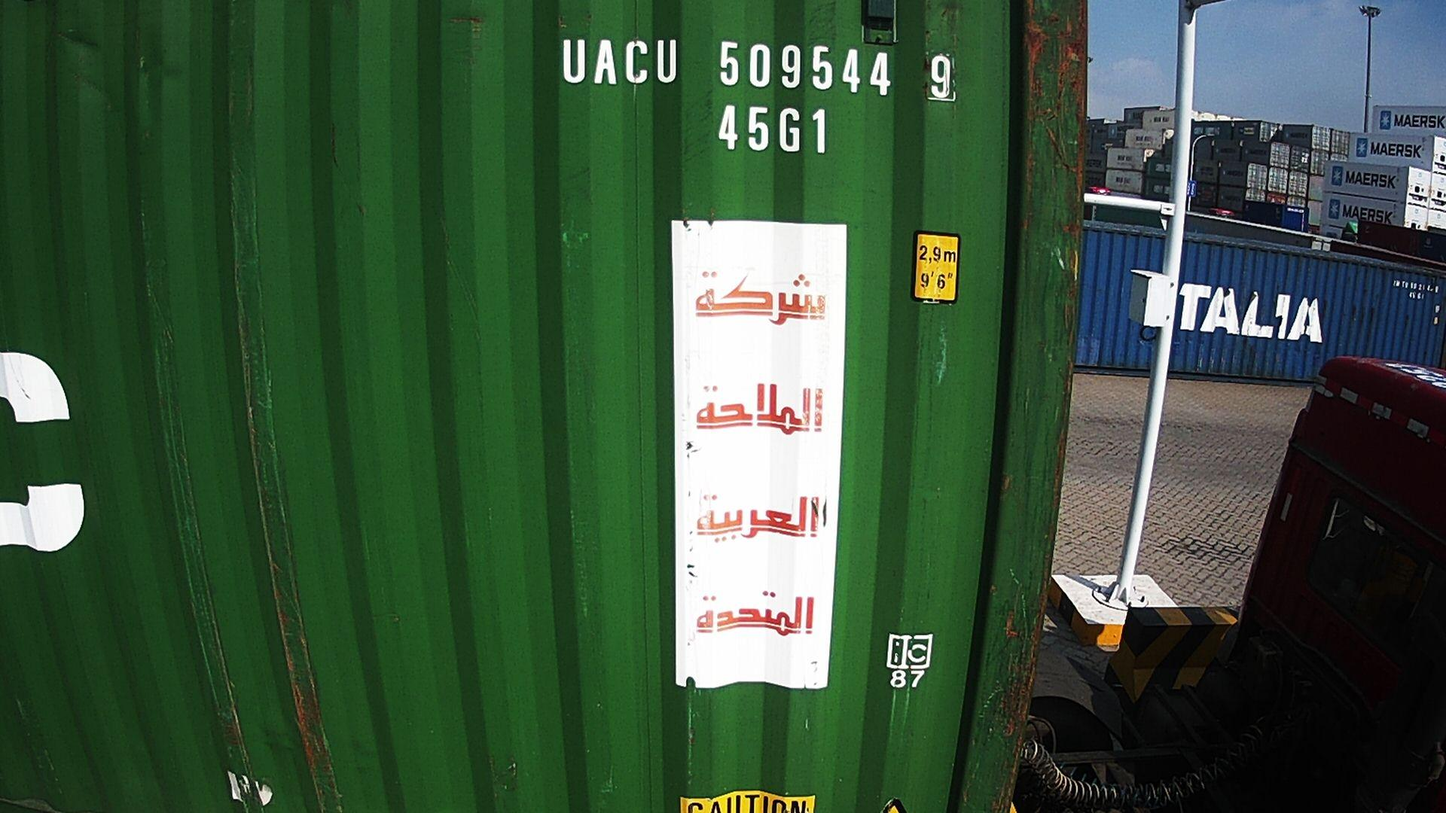container-numbers: (557, 34, 961, 105), (713, 102, 835, 159)
